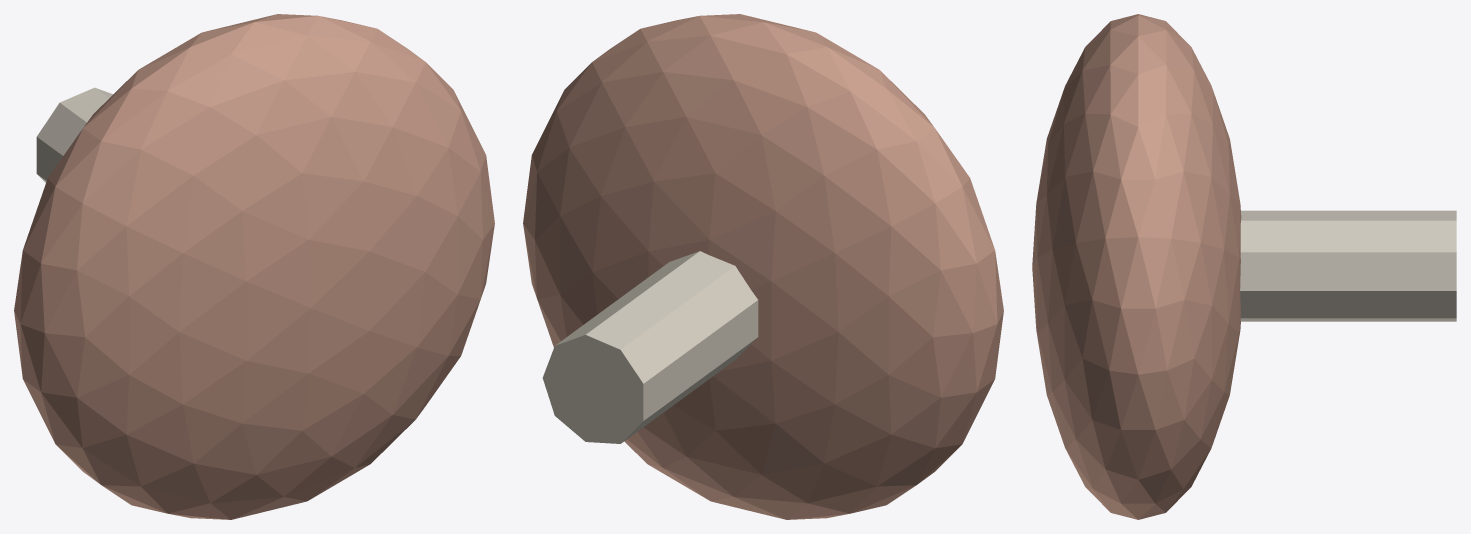
Rendered from mushroom.glb.
3 renders of one model, left to right at view 1: azimuth 30°, elevation 25°; view 2: azimuth 150°, elevation 25°; view 3: azimuth 270°, elevation 25°, orthographic. The views are drawn at different scales.
Visible parts, largest first — view 1: world; view 2: world; view 3: world.
Part boxes in pixels (x1=…): world: x1=14, y1=14, x2=494, y2=519; world: x1=523, y1=14, x2=1003, y2=519; world: x1=1032, y1=14, x2=1456, y2=519.
Size of the model in its own units: 1.44 by 1.44 by 1.2.
